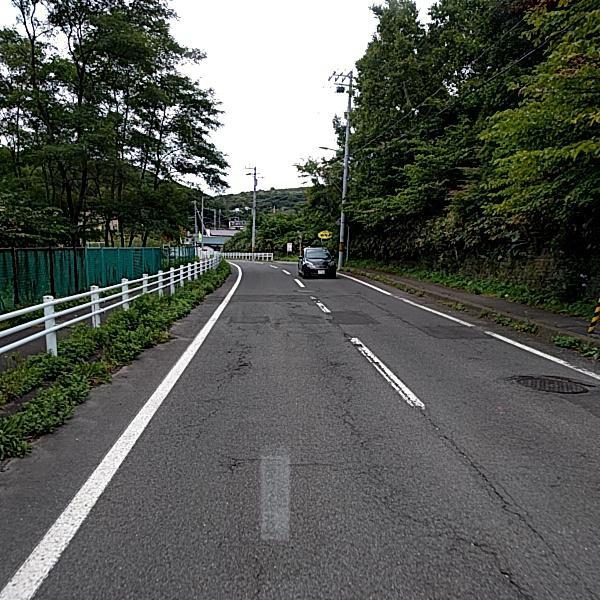D00: (440, 430, 544, 539), (450, 532, 545, 599)
D10: (213, 448, 340, 473)
D20: (331, 355, 405, 512), (211, 331, 263, 386)
D44: (343, 329, 431, 408)
D50: (515, 371, 588, 395)
